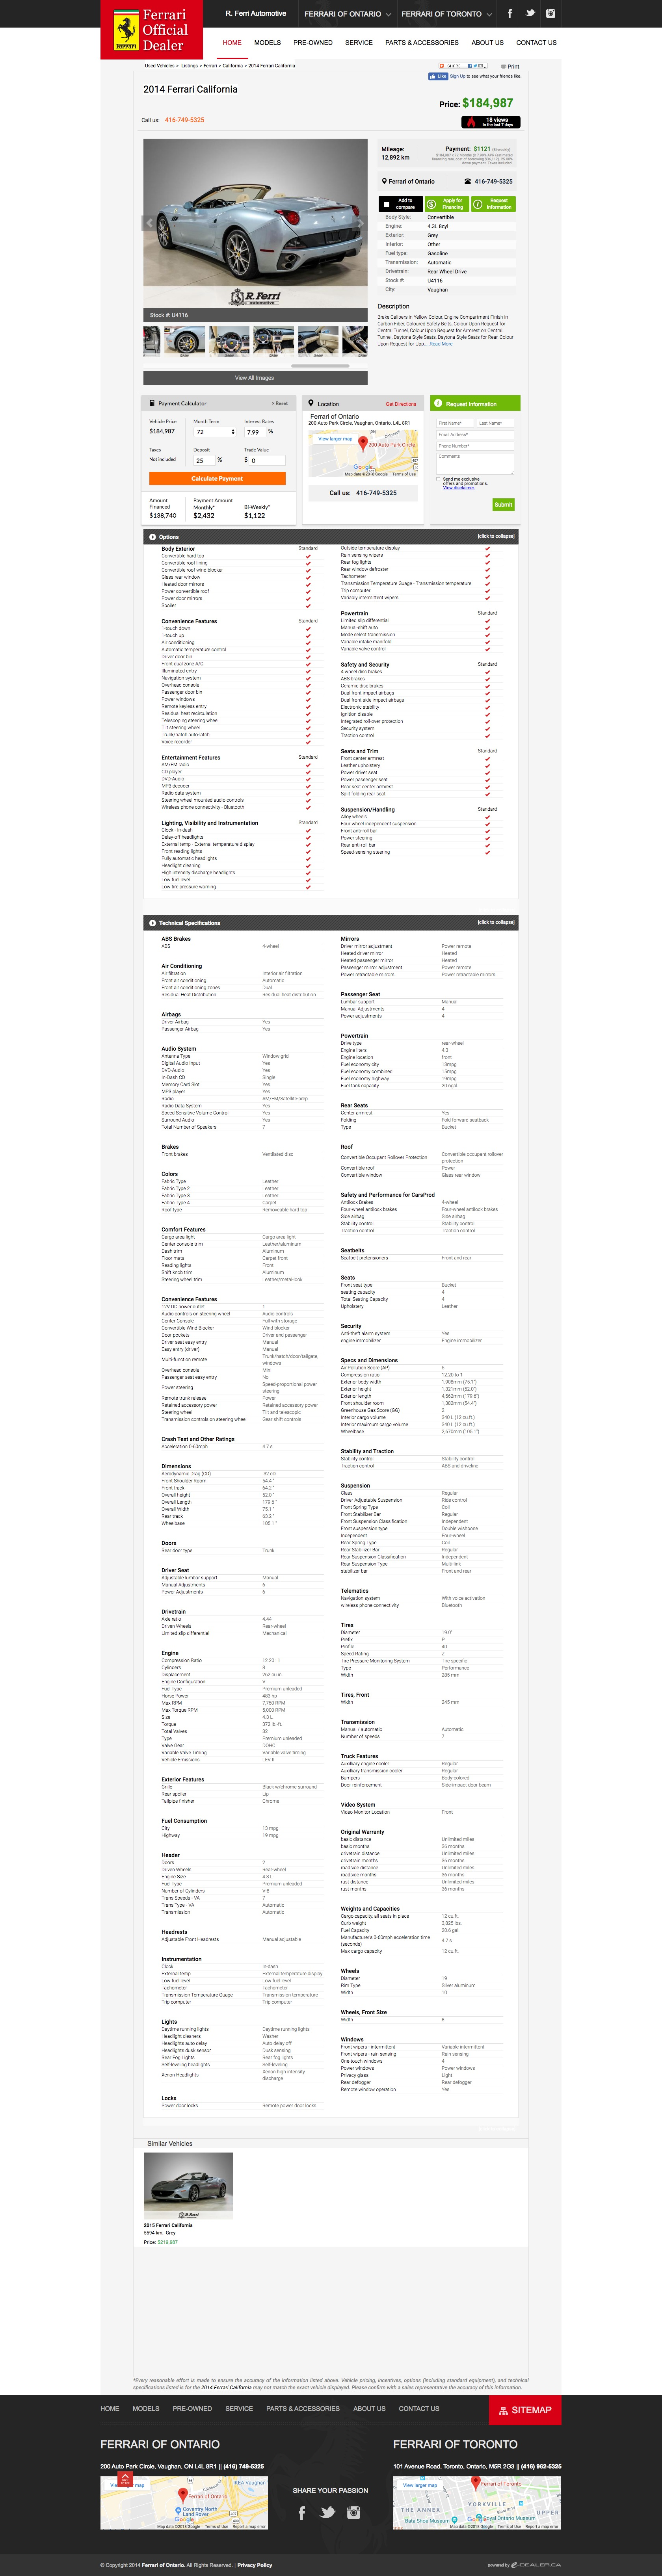car: (358, 218, 365, 228)
